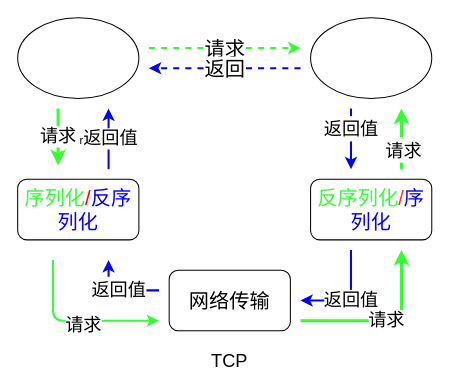
The diagram is 449 pixels wide and 390 high, and some of its shapes have lost their labels. Here are the shapes that lost their labels. From the top down, the centre of each, then its label:
At point 78,57: "服务消费者".
At point 371,57: "服务提供者".
